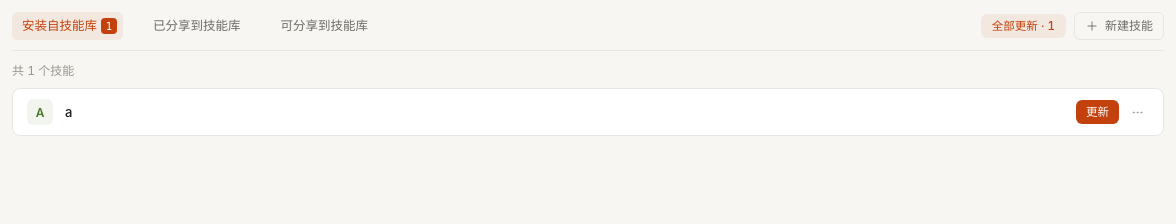
Scenario: v7 任务 7:DoD 六条 › 每行至多一颗主按钮,其余在「…」里
The width and height of the screenshot is (1176, 224).
Click the button named "更多".
click(1137, 112)  # box [1125,100,1149,124]
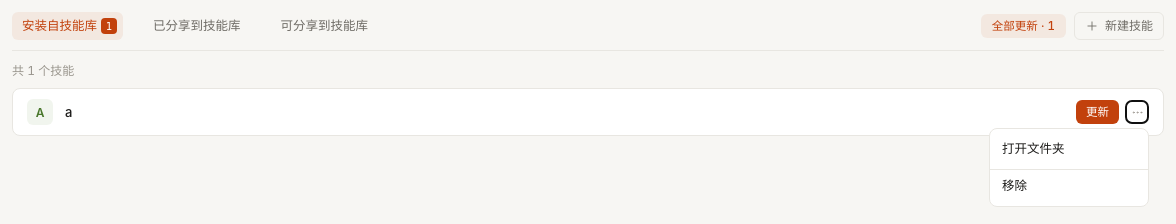
Expected: the menu item "打开文件夹" is shown, [990,133,1148,165]
Expected: the menu item "移除" is shown, [990,169,1148,202]
